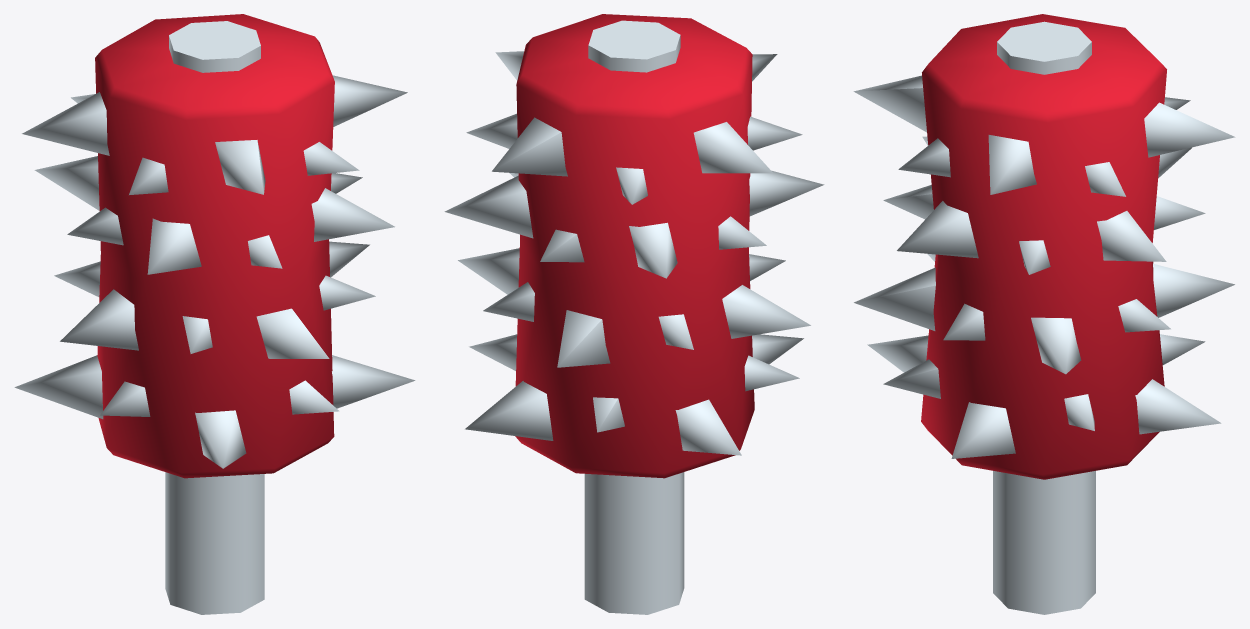
File: Object_Torture.FBX
3 views of the same model, side by side, from view 1: azimuth 30°, elevation 25°; view 2: azimuth 150°, elevation 25°; view 3: azimuth 270°, elevation 25° (orthographic).
Visible parts, largest first — view 1: Object_Torture; view 2: Object_Torture; view 3: Object_Torture.
Part boxes in pixels (x1=…): Object_Torture: x1=14, y1=14, x2=415, y2=614; Object_Torture: x1=444, y1=14, x2=824, y2=614; Object_Torture: x1=853, y1=14, x2=1235, y2=614.
Bounding box in the file's own units: 3.26 × 5.19 × 3.26.
